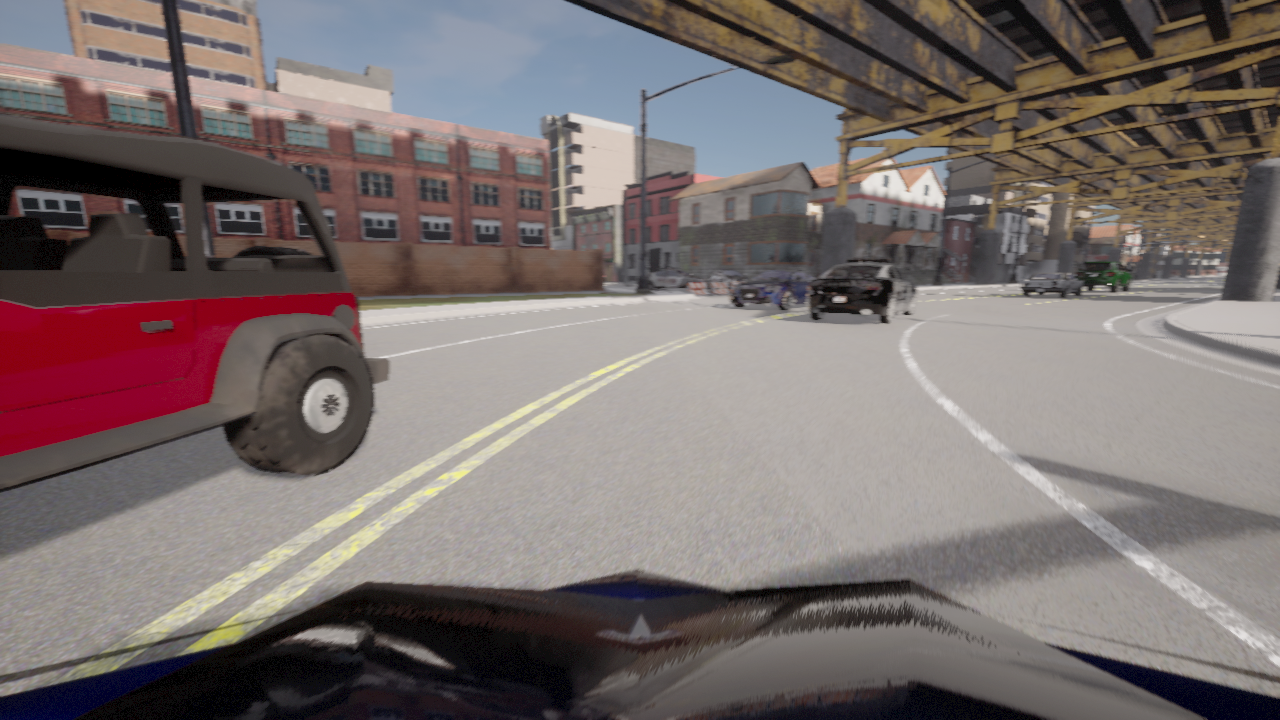cyclist: (0, 569, 1279, 719), (806, 257, 915, 323), (729, 269, 815, 310), (1075, 261, 1131, 292), (1019, 273, 1082, 296), (646, 268, 710, 289), (707, 268, 748, 289), (719, 273, 745, 274), (1072, 274, 1075, 277), (604, 275, 605, 281)
